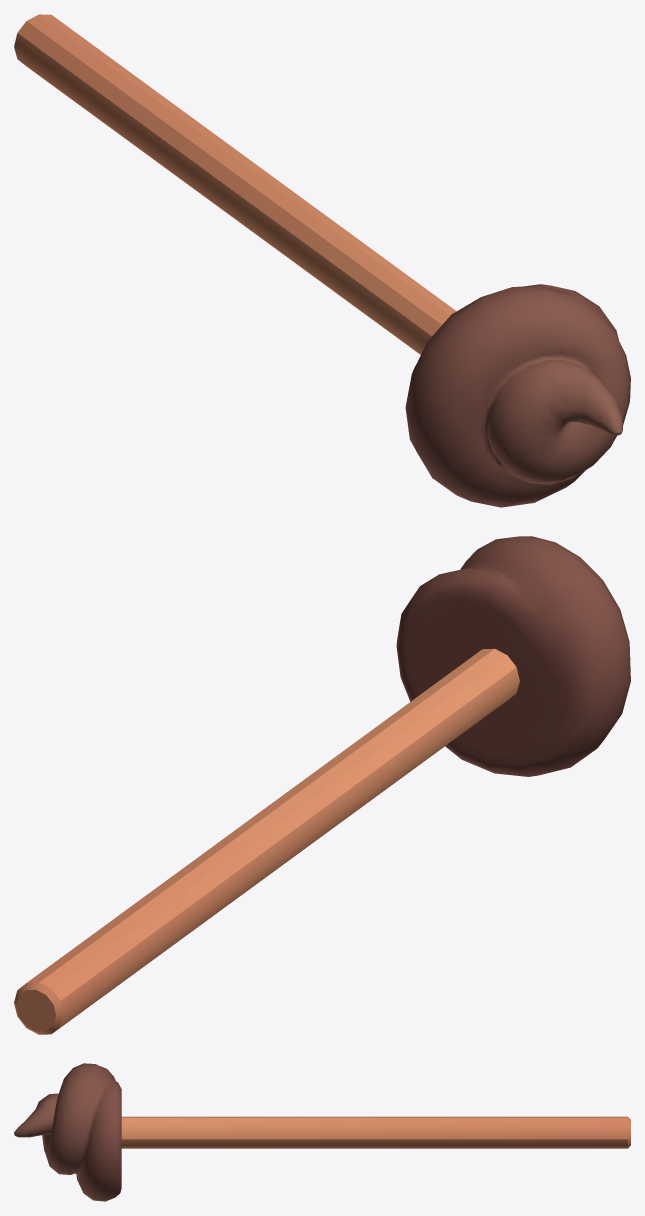
File: Poop_shit.fbx
3 views of the same model, one above another, from view 1: azimuth 30°, elevation 25°; view 2: azimuth 150°, elevation 25°; view 3: azimuth 270°, elevation 25° (orthographic). The views are drawn at different scales.
Parts seen in each view (by area): view 1: Poop_shit; view 2: Poop_shit; view 3: Poop_shit.
Part boxes in pixels (box(x1,y1,x2,y2)): Poop_shit: box(14, 14, 630, 507); Poop_shit: box(14, 536, 630, 1034); Poop_shit: box(14, 1063, 630, 1201).
Bounding box in the file's own units: 24.73 × 24.34 × 111.
